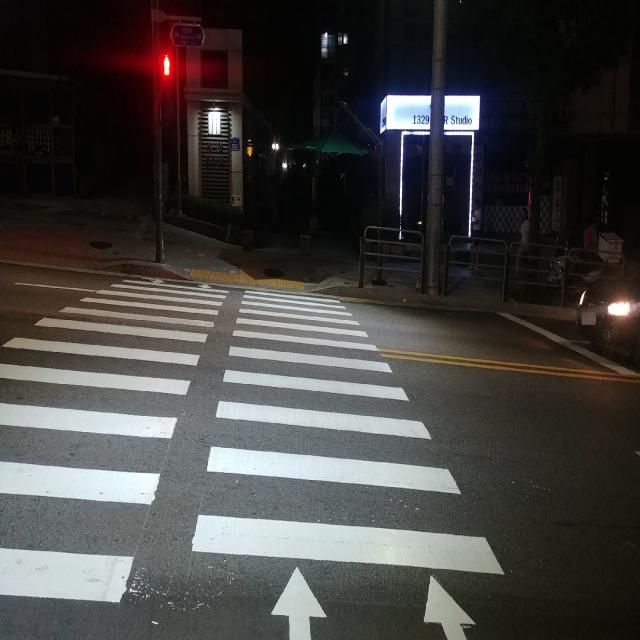빨간불: (161, 54, 174, 116)
횡단보도: (0, 276, 504, 640)
